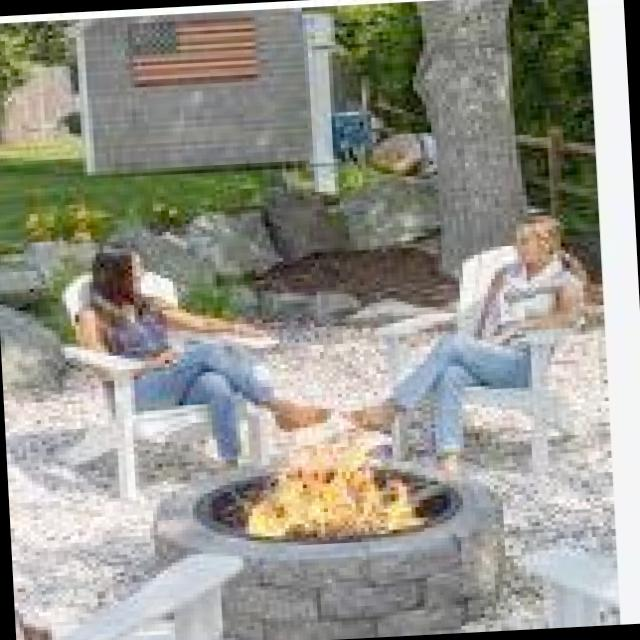Fire_Save: (236, 425, 429, 545)
